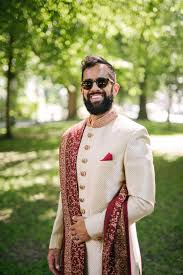b.y: (86, 93, 109, 113)
